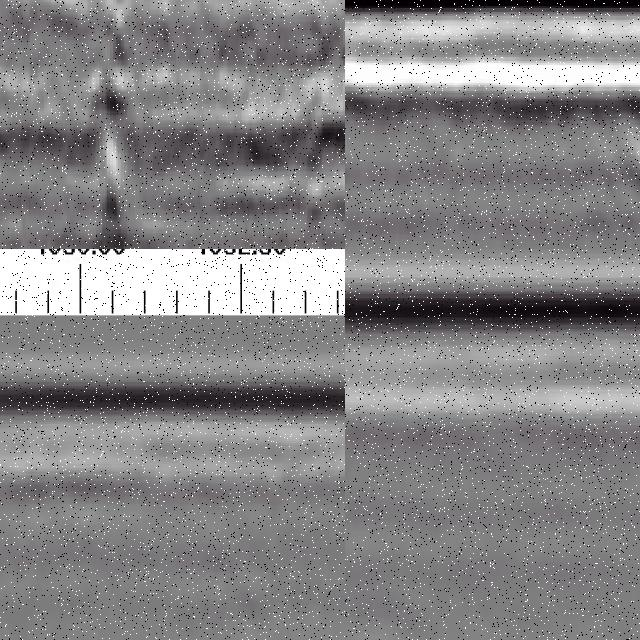crack: (98, 1, 133, 250)
